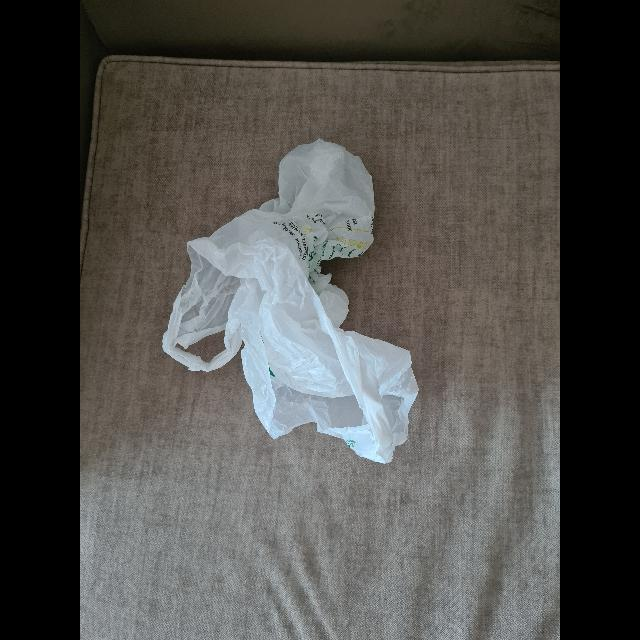plastic_bag: (158, 132, 432, 478)
